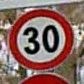limite 30: (7, 7, 75, 72)
